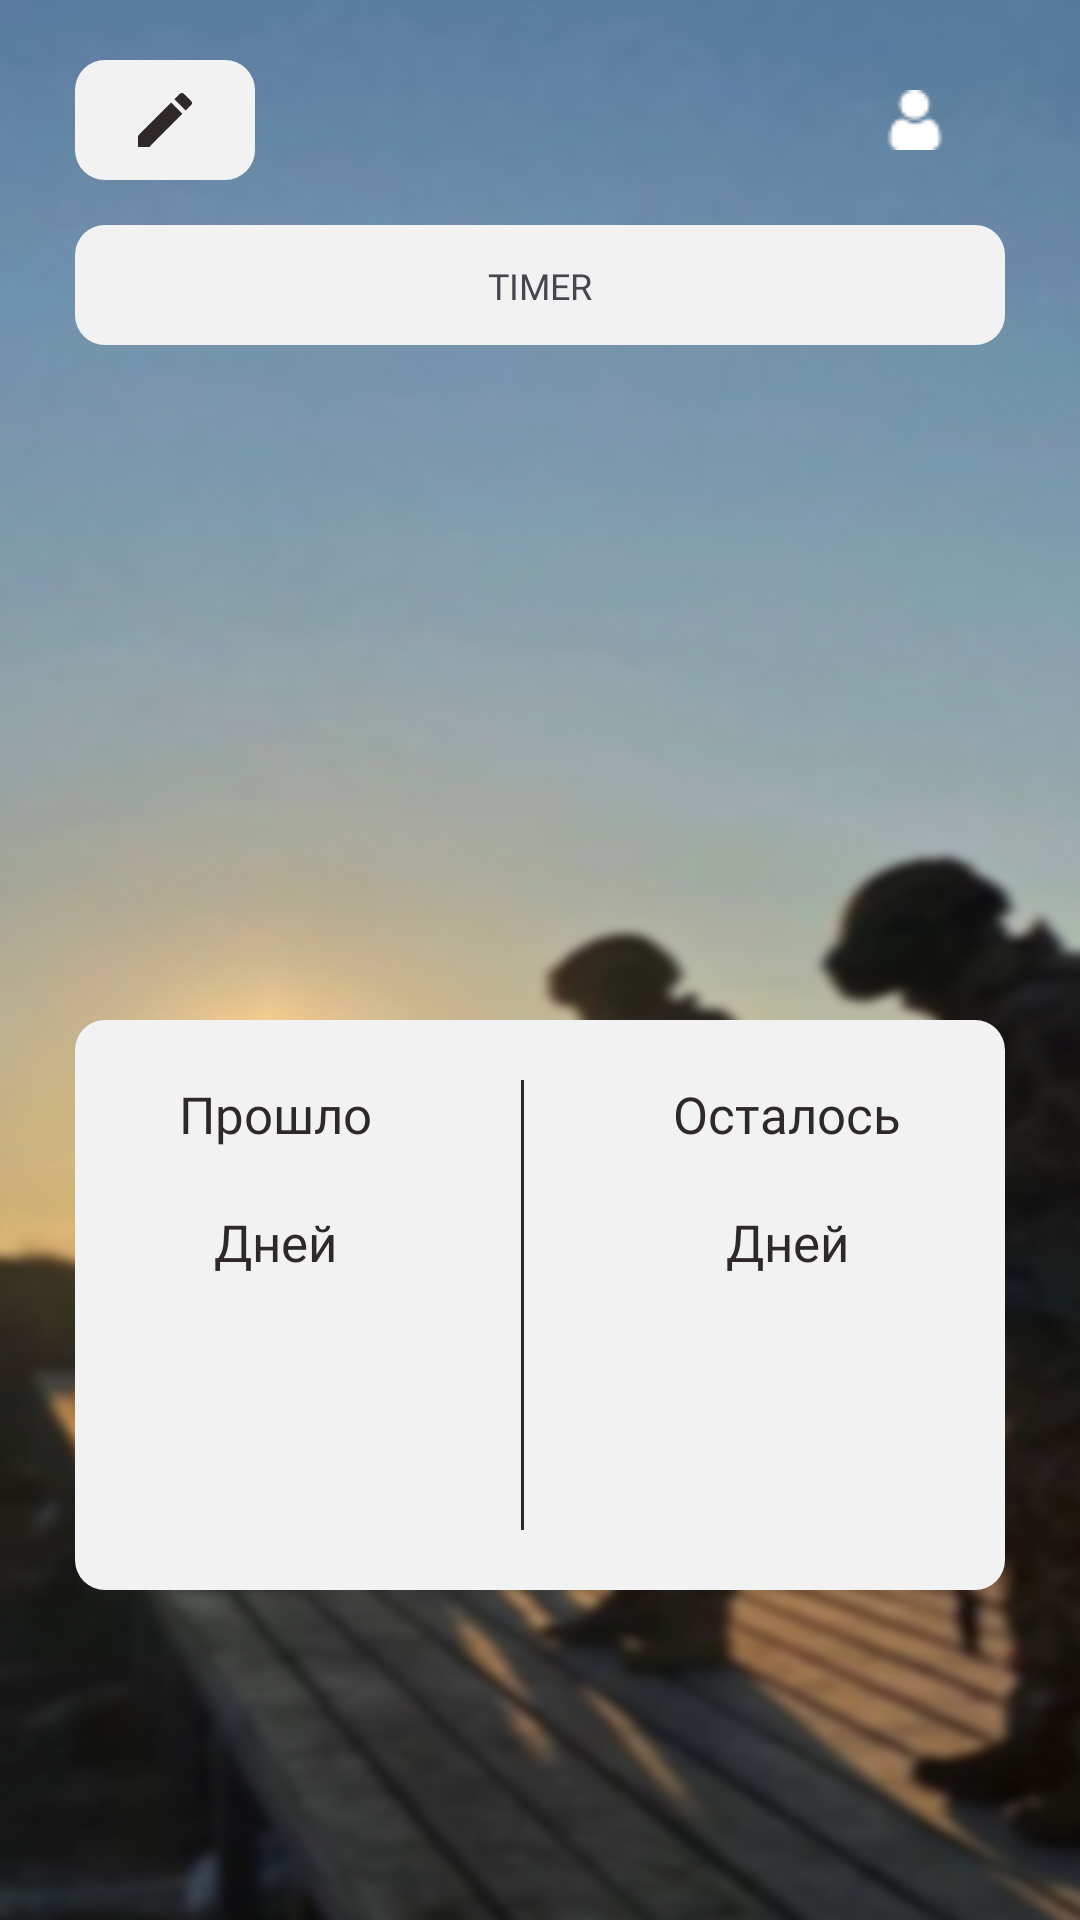

Where to tap for icons on this 1080*1920 app screen, as (x,y):
account: (915,120)
edit timer: (165,120)
